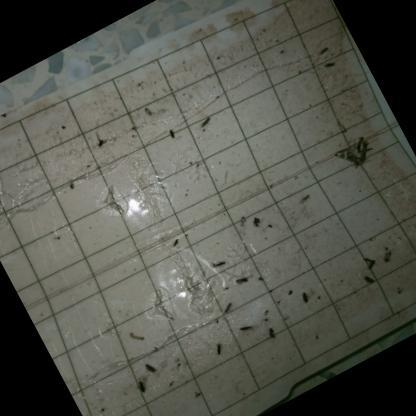prays_oleae: (192, 107, 220, 136), (359, 249, 383, 277), (236, 318, 260, 344), (207, 252, 233, 276), (218, 296, 240, 321), (132, 374, 152, 401), (210, 336, 230, 362), (320, 54, 341, 78), (140, 356, 159, 381), (233, 270, 254, 292), (358, 271, 379, 292), (92, 131, 110, 153), (166, 233, 184, 252), (316, 42, 332, 56)
